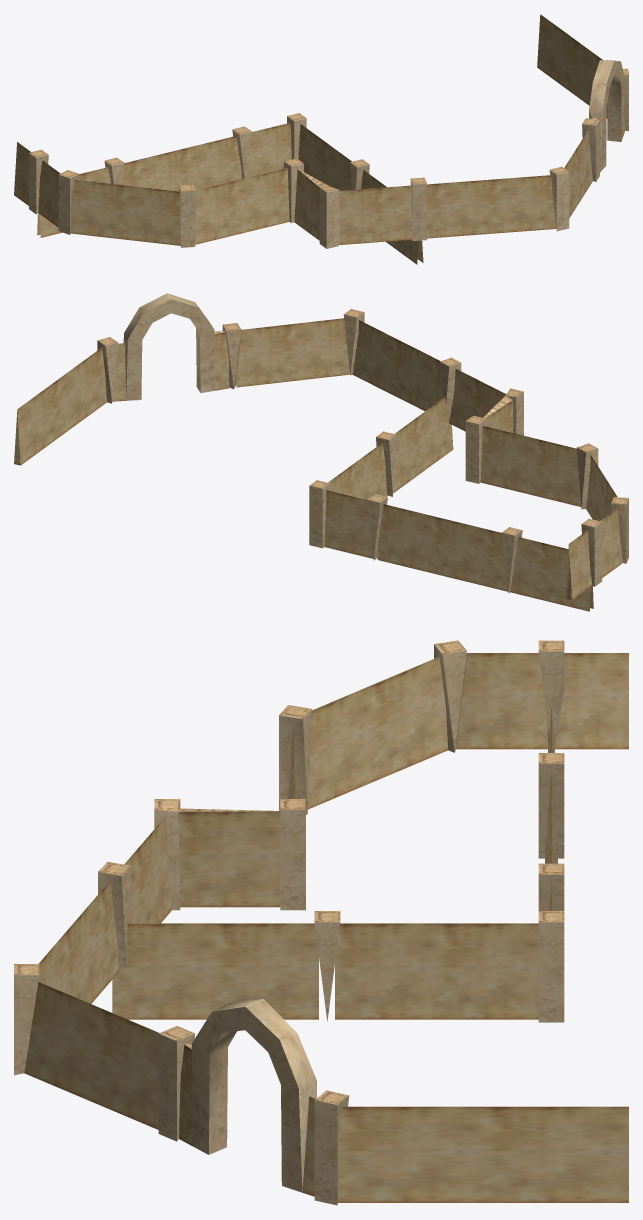
Rendered from poi_tato_corral_half_64x64_s01_l1.fbx.
3 views of the same model, one above another, from view 1: azimuth 30°, elevation 25°; view 2: azimuth 150°, elevation 25°; view 3: azimuth 270°, elevation 25° (orthographic). The views are drawn at different scales.
Visible parts, largest first — view 1: mesh_node; view 2: mesh_node; view 3: mesh_node.
Part boxes in pixels (left/top/right/bottom): mesh_node: left=14, top=14, right=628, bottom=264; mesh_node: left=14, top=293, right=628, bottom=611; mesh_node: left=14, top=640, right=628, bottom=1205.
Bounding box in the file's own units: 42.57 × 9 × 23.81.
Materials: 1 (1 with a texture image).
